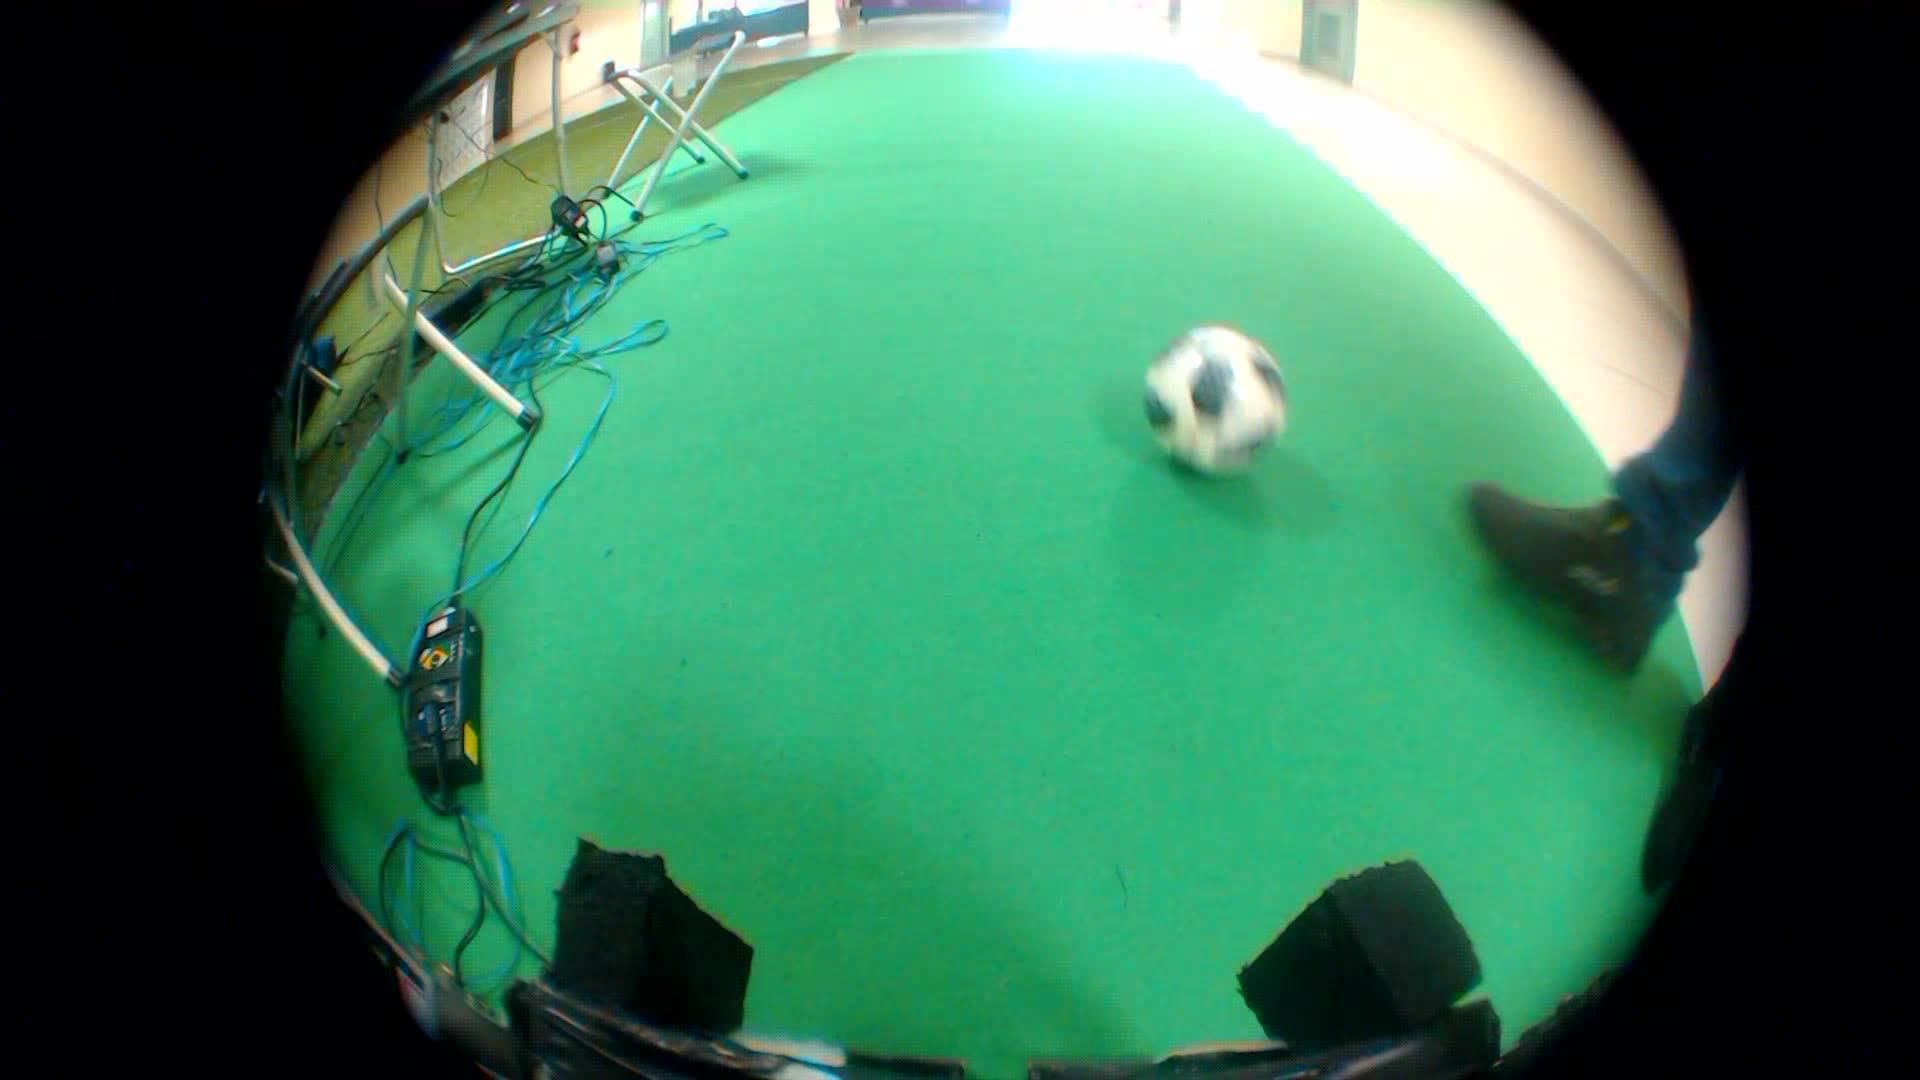ball: (1117, 302, 1302, 489)
